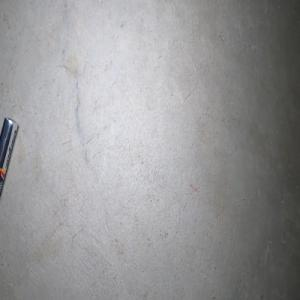Battery: (0, 116, 19, 199)
